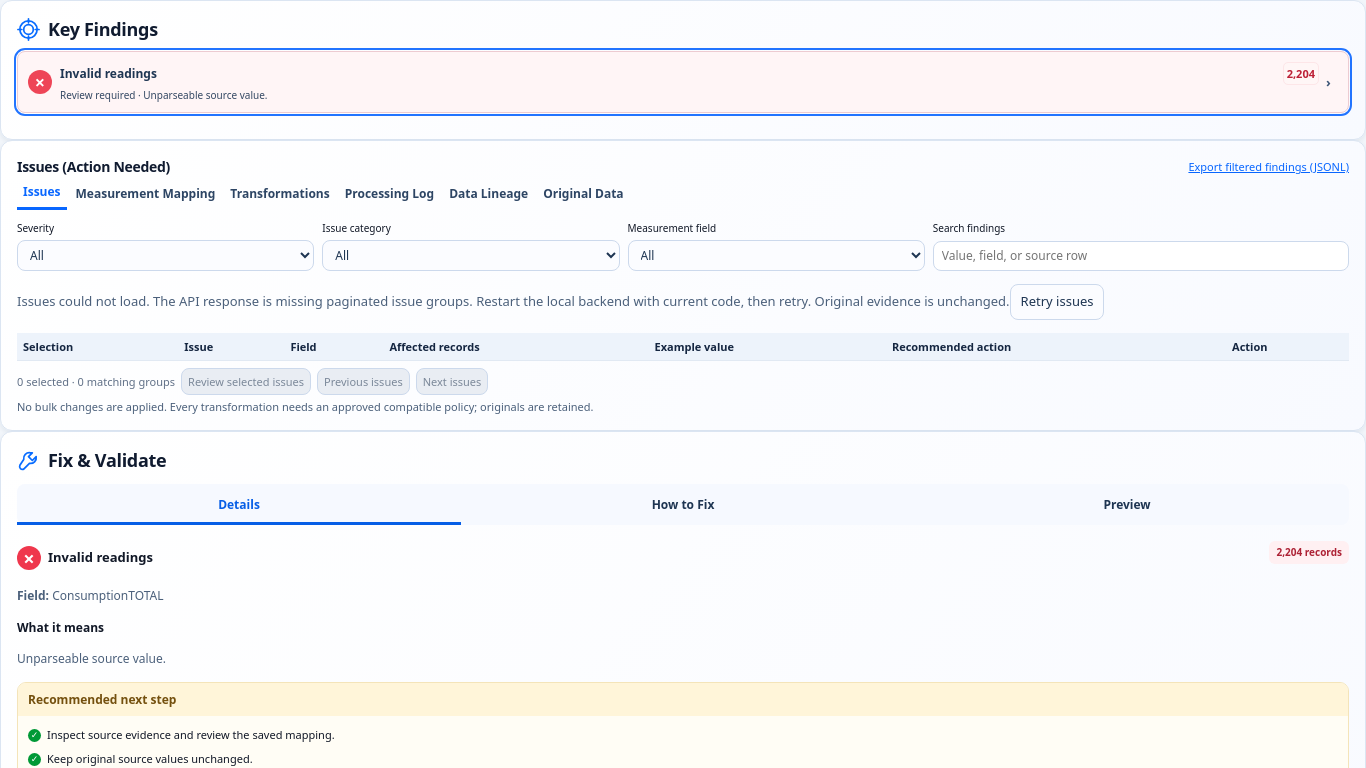
Test case: distinguishes outdated API contracts and filtered-empty results, with retry and clear filters
Check: the message shows "Restart the local backend", box [17,292,1010,310]
Click the button "Retry issues" at (1057,302), box [1010,284,1104,320]
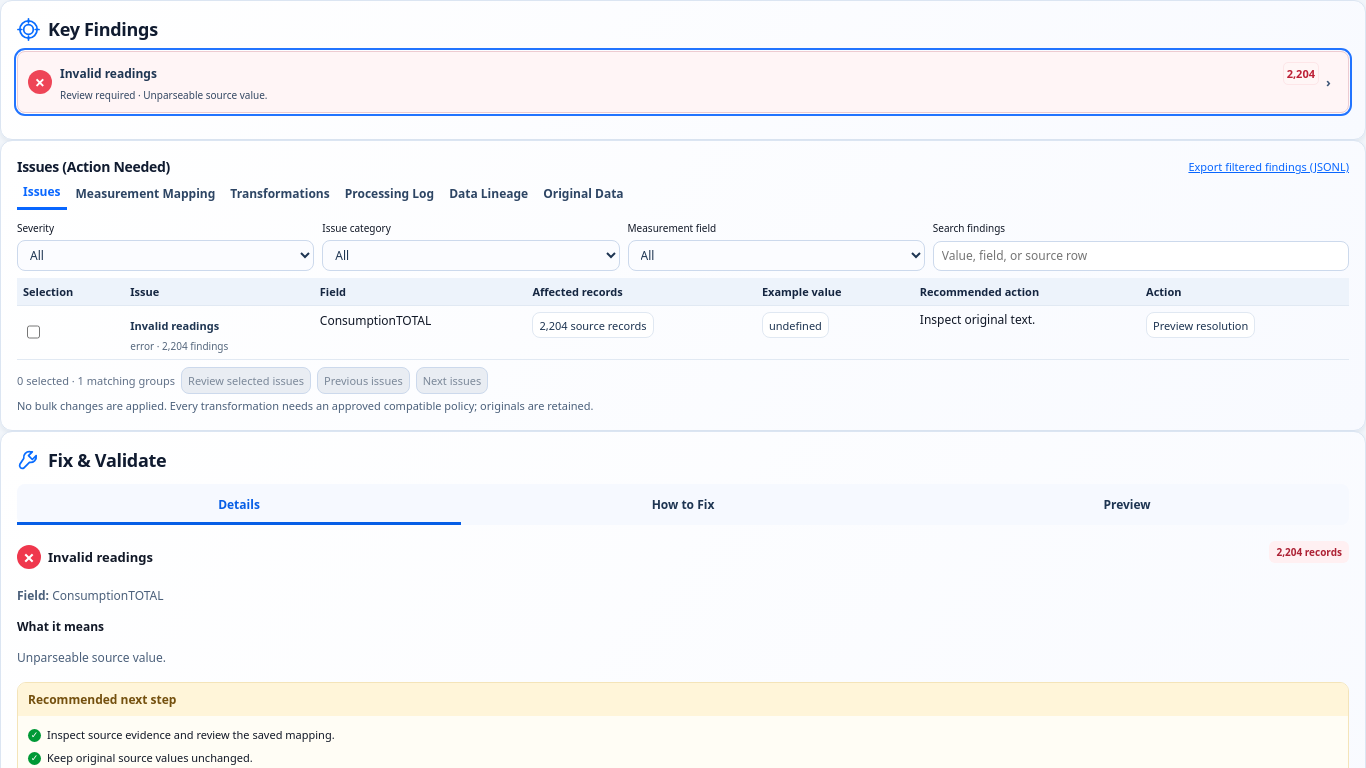
Check: the button "undefined" is shown, box [762,312,829,338]
Select "Warnings" in the dropdown labelled "Severity" at (166,256), box [17,240,314,271]
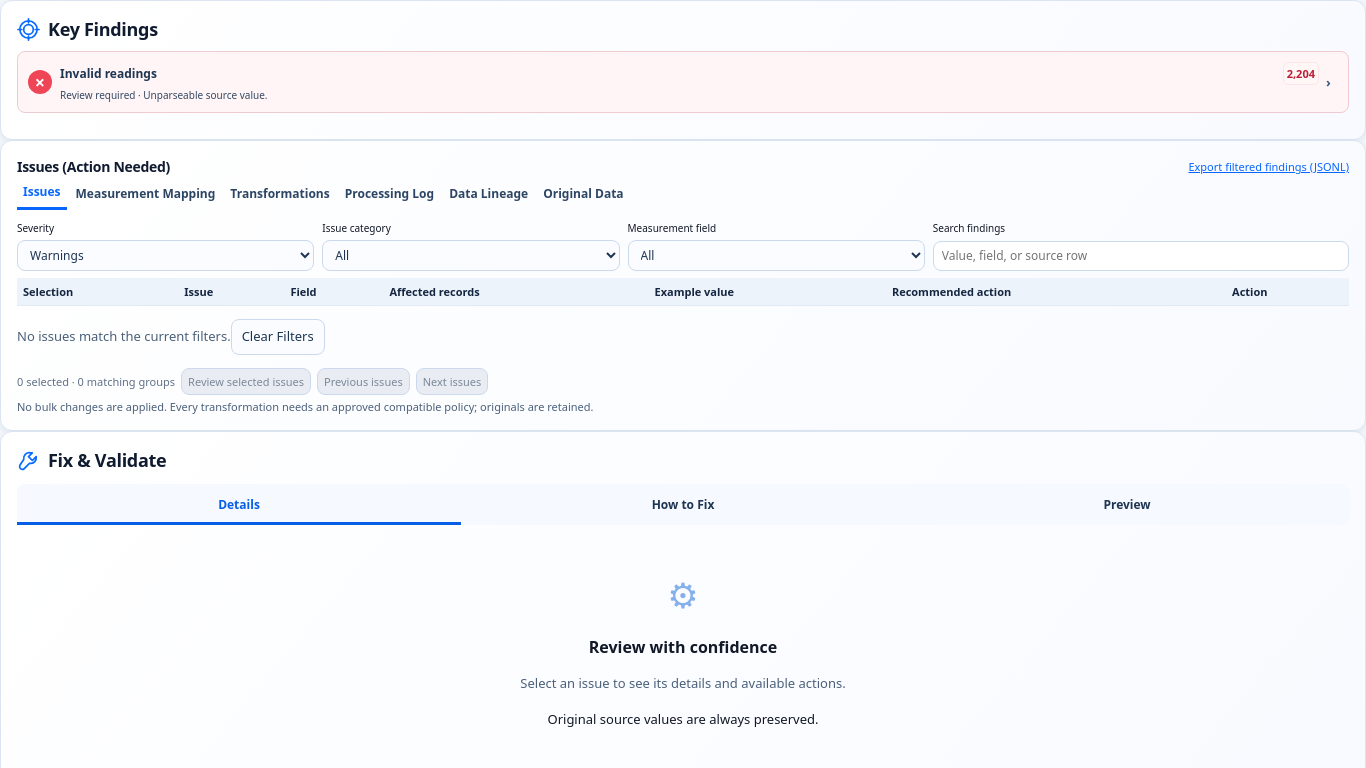
Check: the text "No issues match the current filters." is shown, box [17,327,231,345]
Click the button "Clear Filters" at (278,337), box [231,319,325,354]
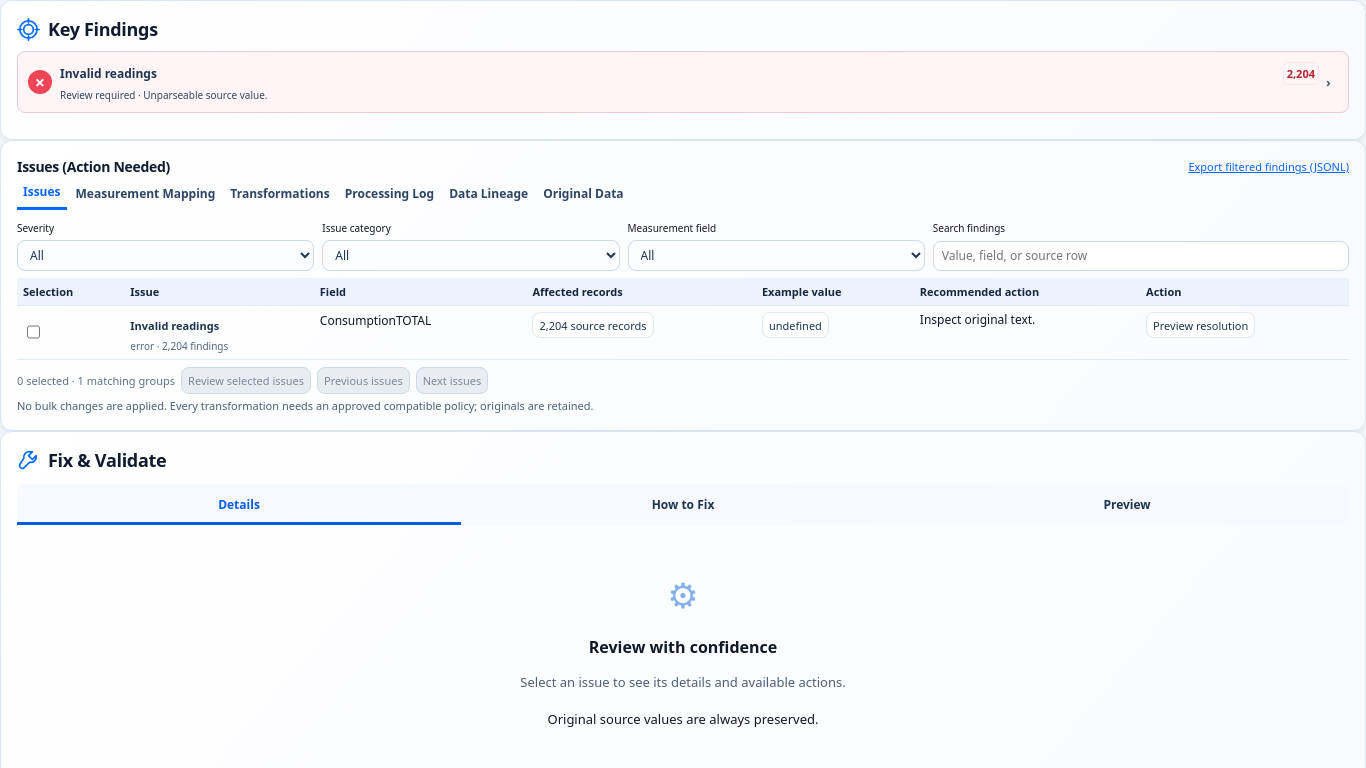
Check: the button "undefined" is shown, box [762,312,829,338]
